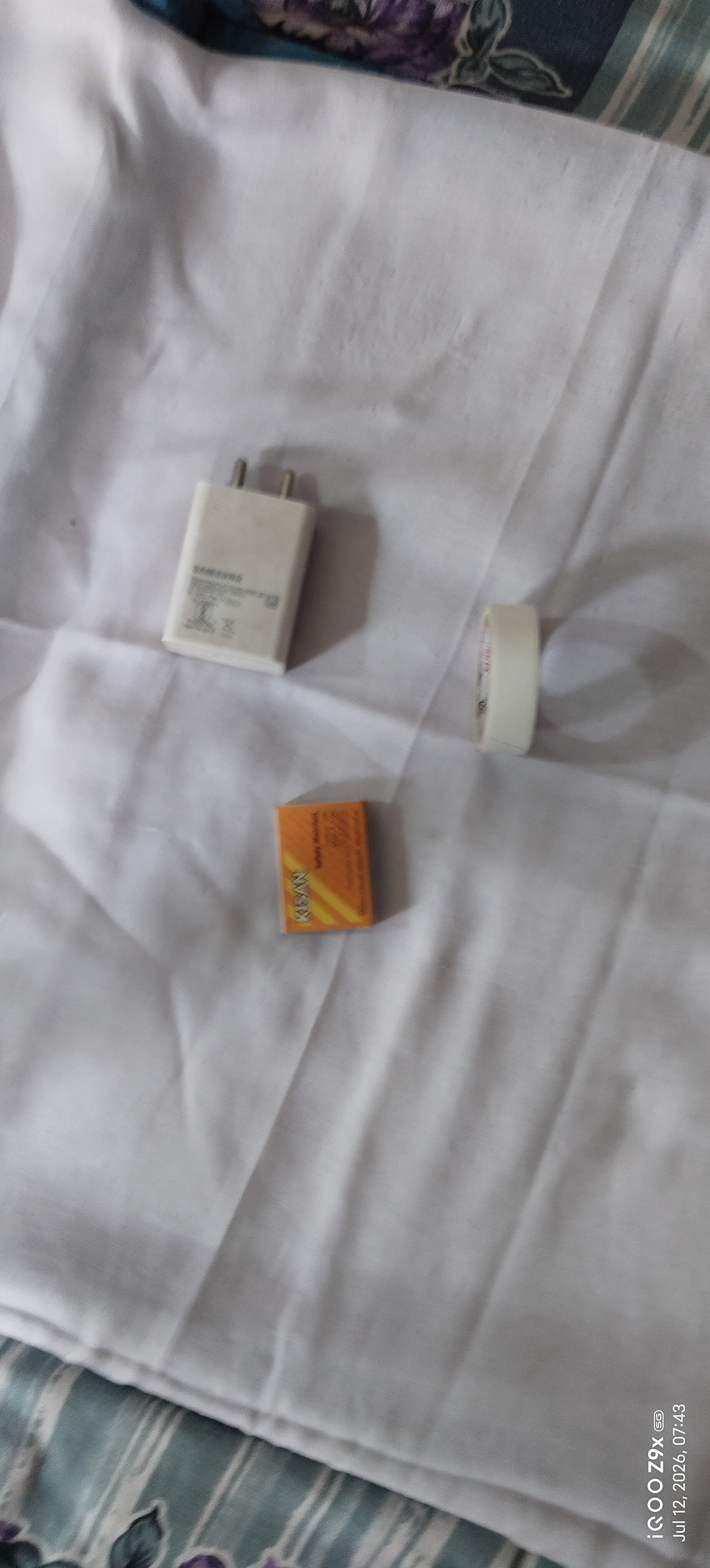charger: (142, 438, 374, 698)
matchbox: (243, 771, 417, 959)
tape_roll: (461, 559, 565, 806)
